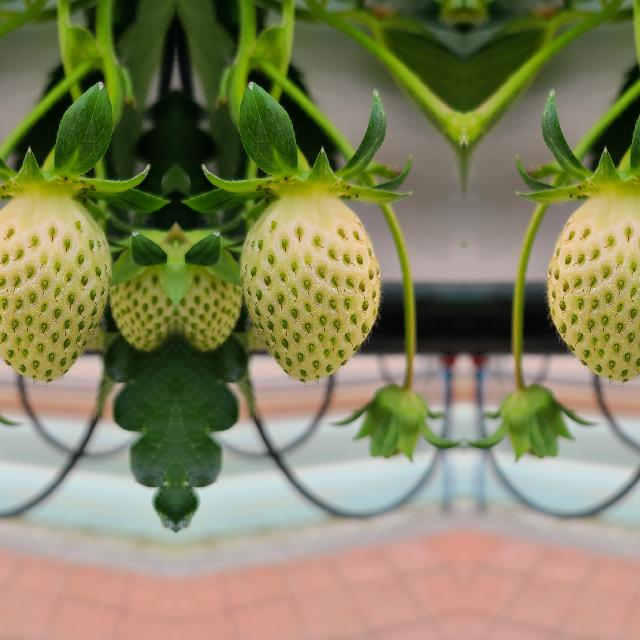Health_25: (240, 191, 378, 381), (0, 191, 110, 381), (548, 191, 640, 381), (174, 236, 240, 352), (110, 236, 176, 352)
